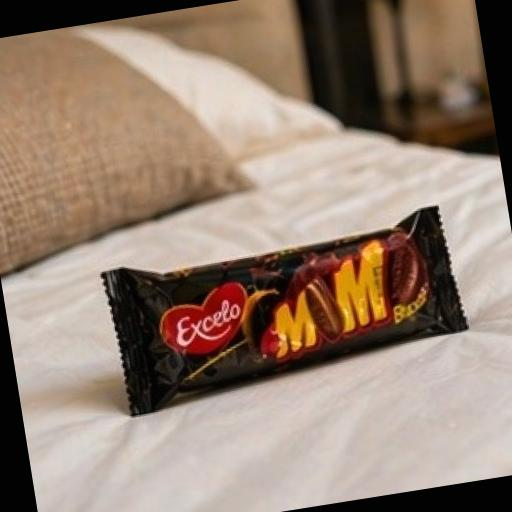MOMO: (63, 158, 512, 474)
